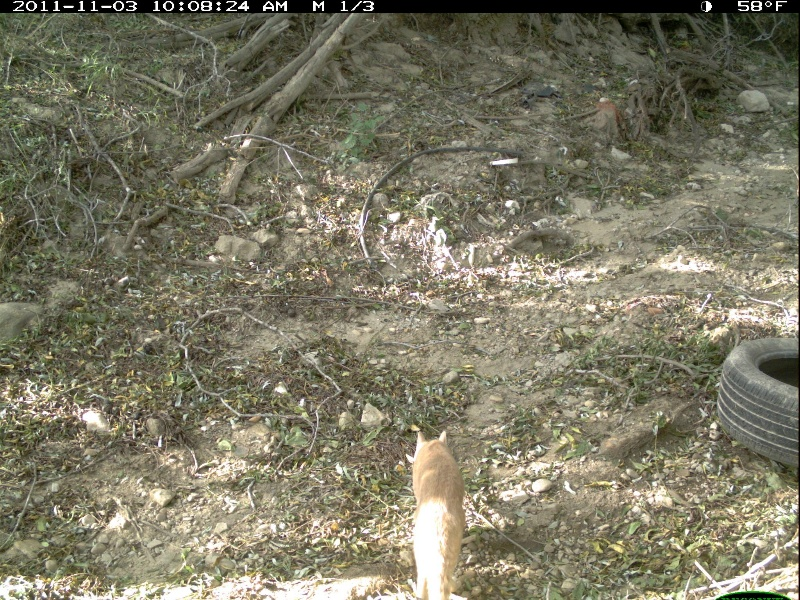cat: (404, 426, 467, 600)
